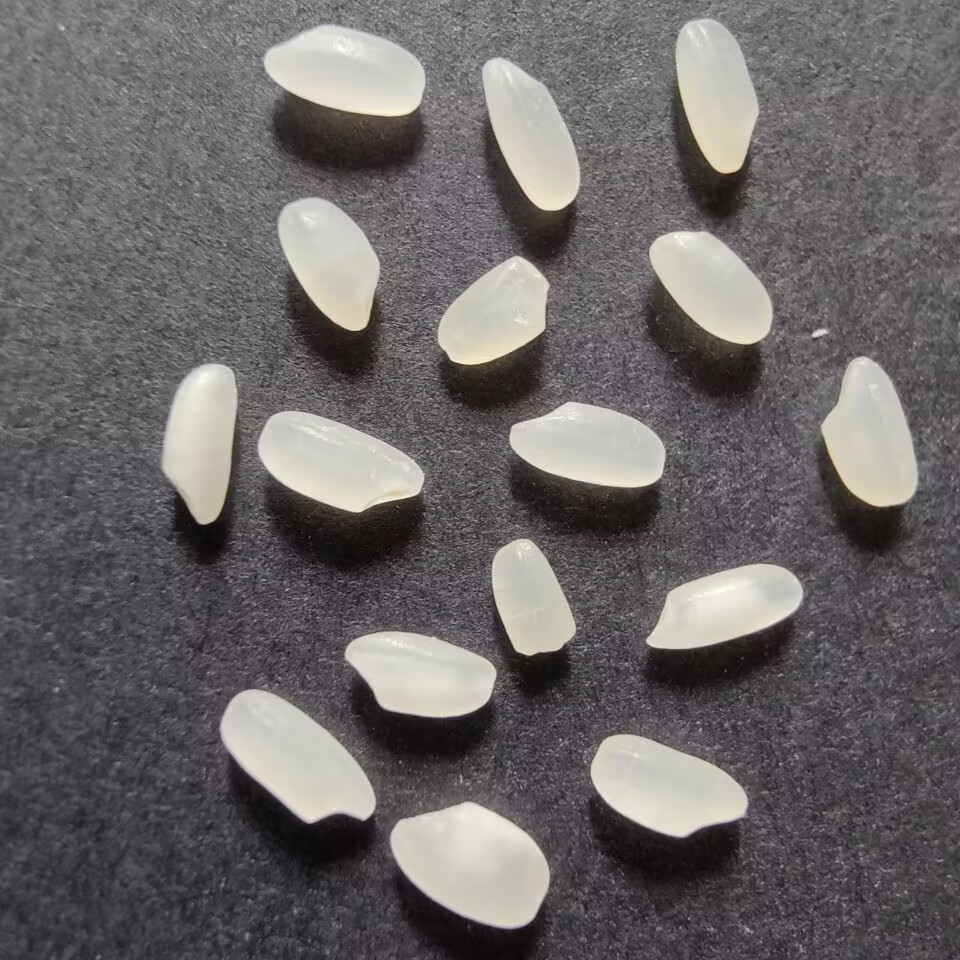broken: (434, 254, 553, 367), (481, 532, 580, 657)
rice: (215, 683, 378, 831), (383, 799, 555, 932), (251, 405, 426, 519), (588, 731, 749, 844), (257, 22, 428, 120), (498, 396, 668, 494), (480, 55, 585, 213), (817, 352, 922, 510), (642, 559, 808, 655), (644, 228, 778, 346), (669, 15, 763, 180), (340, 628, 502, 722), (275, 194, 384, 333), (157, 357, 238, 529)
